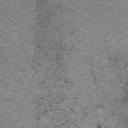oxide scale of temperature system: (36, 96, 78, 120), (30, 40, 48, 56), (56, 120, 68, 128), (92, 104, 102, 110), (124, 82, 128, 96), (83, 112, 88, 117), (64, 80, 68, 84), (96, 125, 101, 128), (34, 9, 38, 12), (58, 5, 61, 8)
